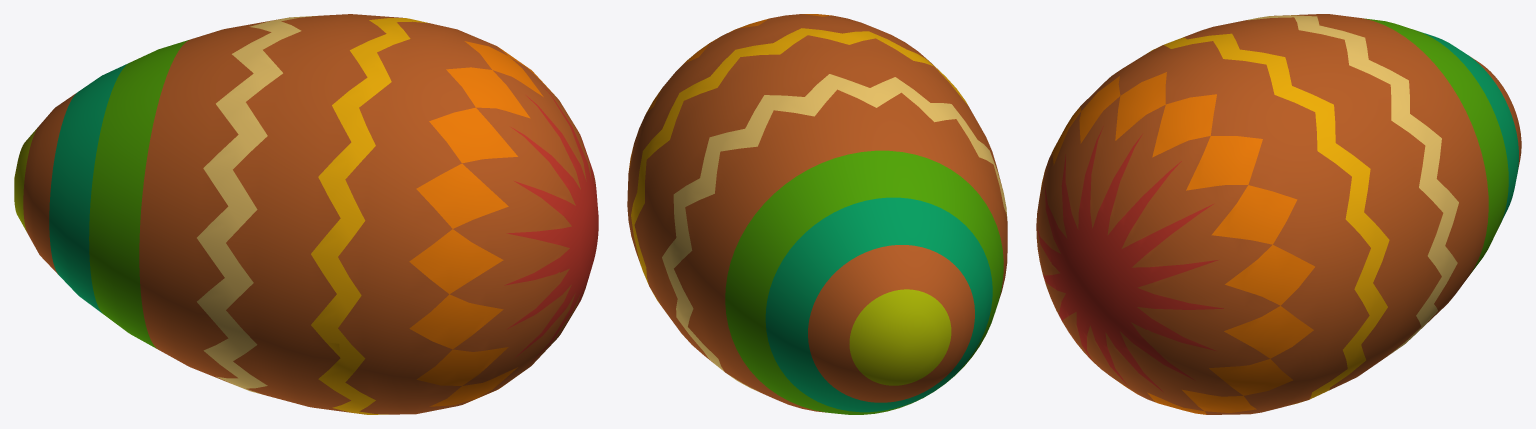
Rendered from Osterei.fbx + animation.fbx.
The picture shows the model from 3 angles, left to right: view 1: azimuth 30°, elevation 25°; view 2: azimuth 150°, elevation 25°; view 3: azimuth 270°, elevation 25°; orthographic projection. The views are drawn at different scales.
Parts seen in each view (by area): view 1: Osterei; view 2: Osterei; view 3: Osterei.
Boxes of the visible parts, left/top/right/bottom form: Osterei: left=14, top=14, right=598, bottom=414; Osterei: left=627, top=14, right=1007, bottom=414; Osterei: left=1036, top=14, right=1521, bottom=414.
Size of the model in its own units: 261 by 204 by 258.
